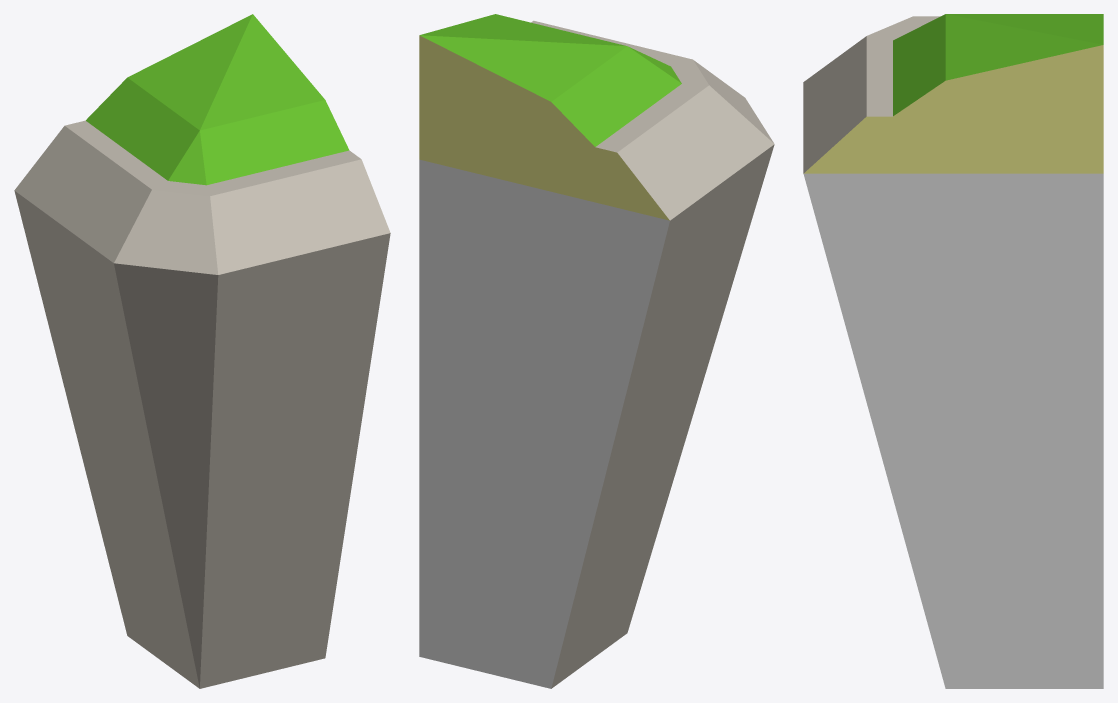
Rendered from Basic_Curve_Outer_1x1_Top.glb.
3 views of the same model, side by side, from view 1: azimuth 30°, elevation 25°; view 2: azimuth 150°, elevation 25°; view 3: azimuth 270°, elevation 25° (orthographic). The views are drawn at different scales.
Parts seen in each view (by area): view 1: Basic_Curve_Outer_1x1_Top; view 2: Basic_Curve_Outer_1x1_Top; view 3: Basic_Curve_Outer_1x1_Top.
Part boxes in pixels (x1=…): Basic_Curve_Outer_1x1_Top: x1=14, y1=14, x2=390, y2=688; Basic_Curve_Outer_1x1_Top: x1=419, y1=14, x2=774, y2=688; Basic_Curve_Outer_1x1_Top: x1=803, y1=14, x2=1103, y2=688.
Bounding box in the file's own units: 95 × 225 × 95.
